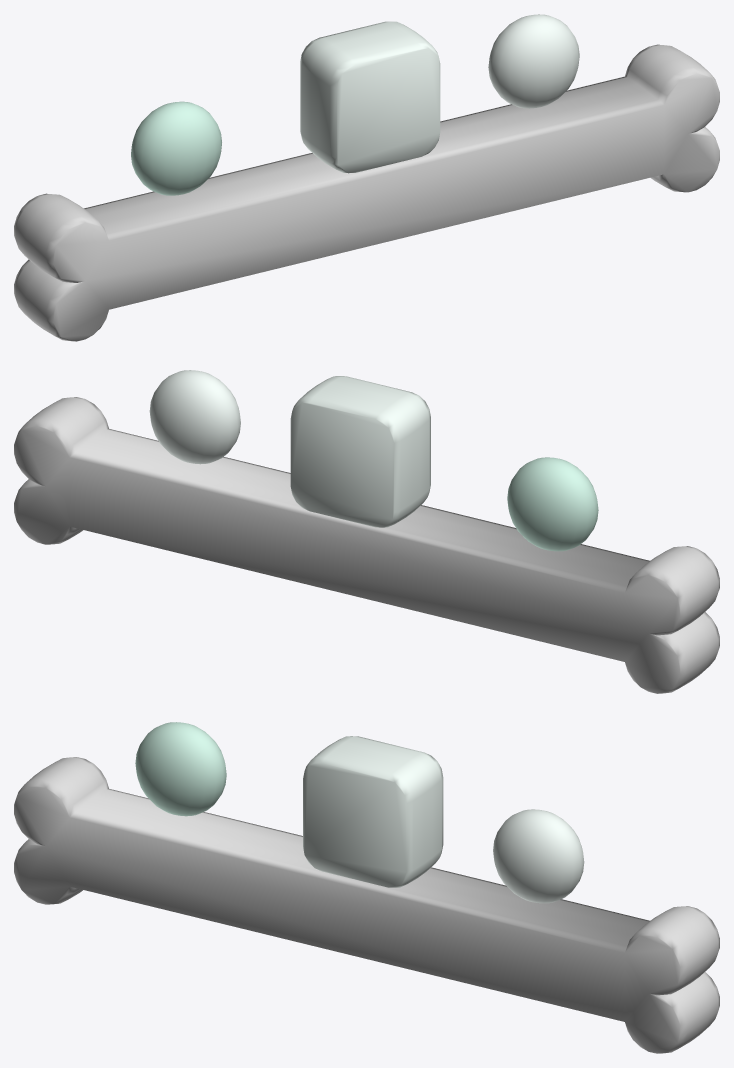
Rendered from decor_5_mint.glb.
3 renders of one model, top to bottom at view 1: azimuth 30°, elevation 25°; view 2: azimuth 150°, elevation 25°; view 3: azimuth 330°, elevation 25°, orthographic.
Visible parts, largest first — view 1: decor_5_mint; view 2: decor_5_mint; view 3: decor_5_mint.
Part boxes in pixels (box(x1,y1,x2,y2)): decor_5_mint: box(14, 14, 719, 341); decor_5_mint: box(14, 370, 719, 693); decor_5_mint: box(14, 722, 719, 1053).
Bounding box in the file's own units: 14.33 × 4.35 × 1.45.
